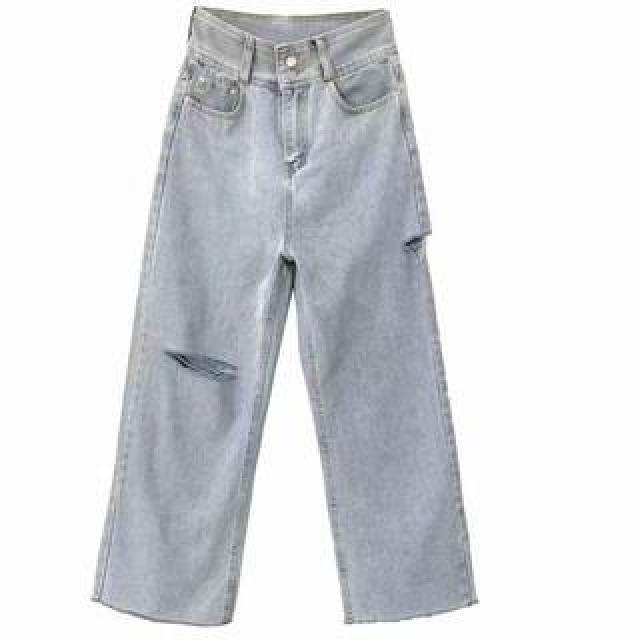pants: (83, 2, 477, 626)
